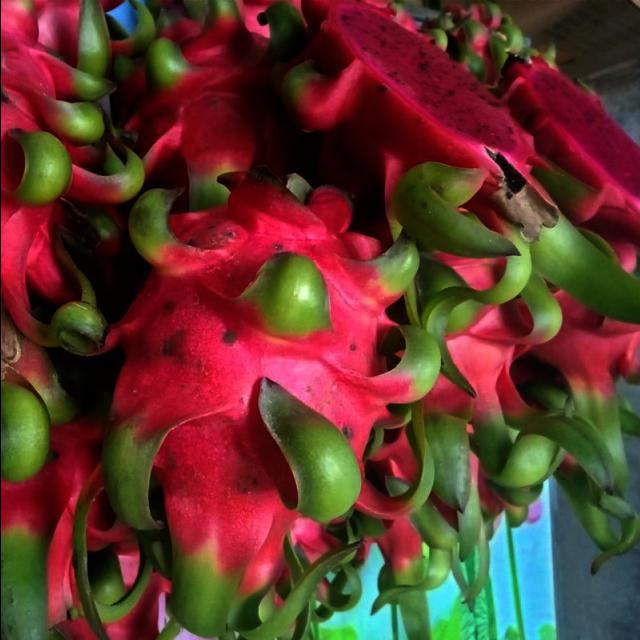do: (99, 160, 415, 630), (282, 0, 550, 249), (384, 201, 548, 479), (0, 0, 119, 315), (130, 0, 298, 216), (1, 333, 116, 640), (523, 226, 639, 479), (506, 46, 639, 255)
